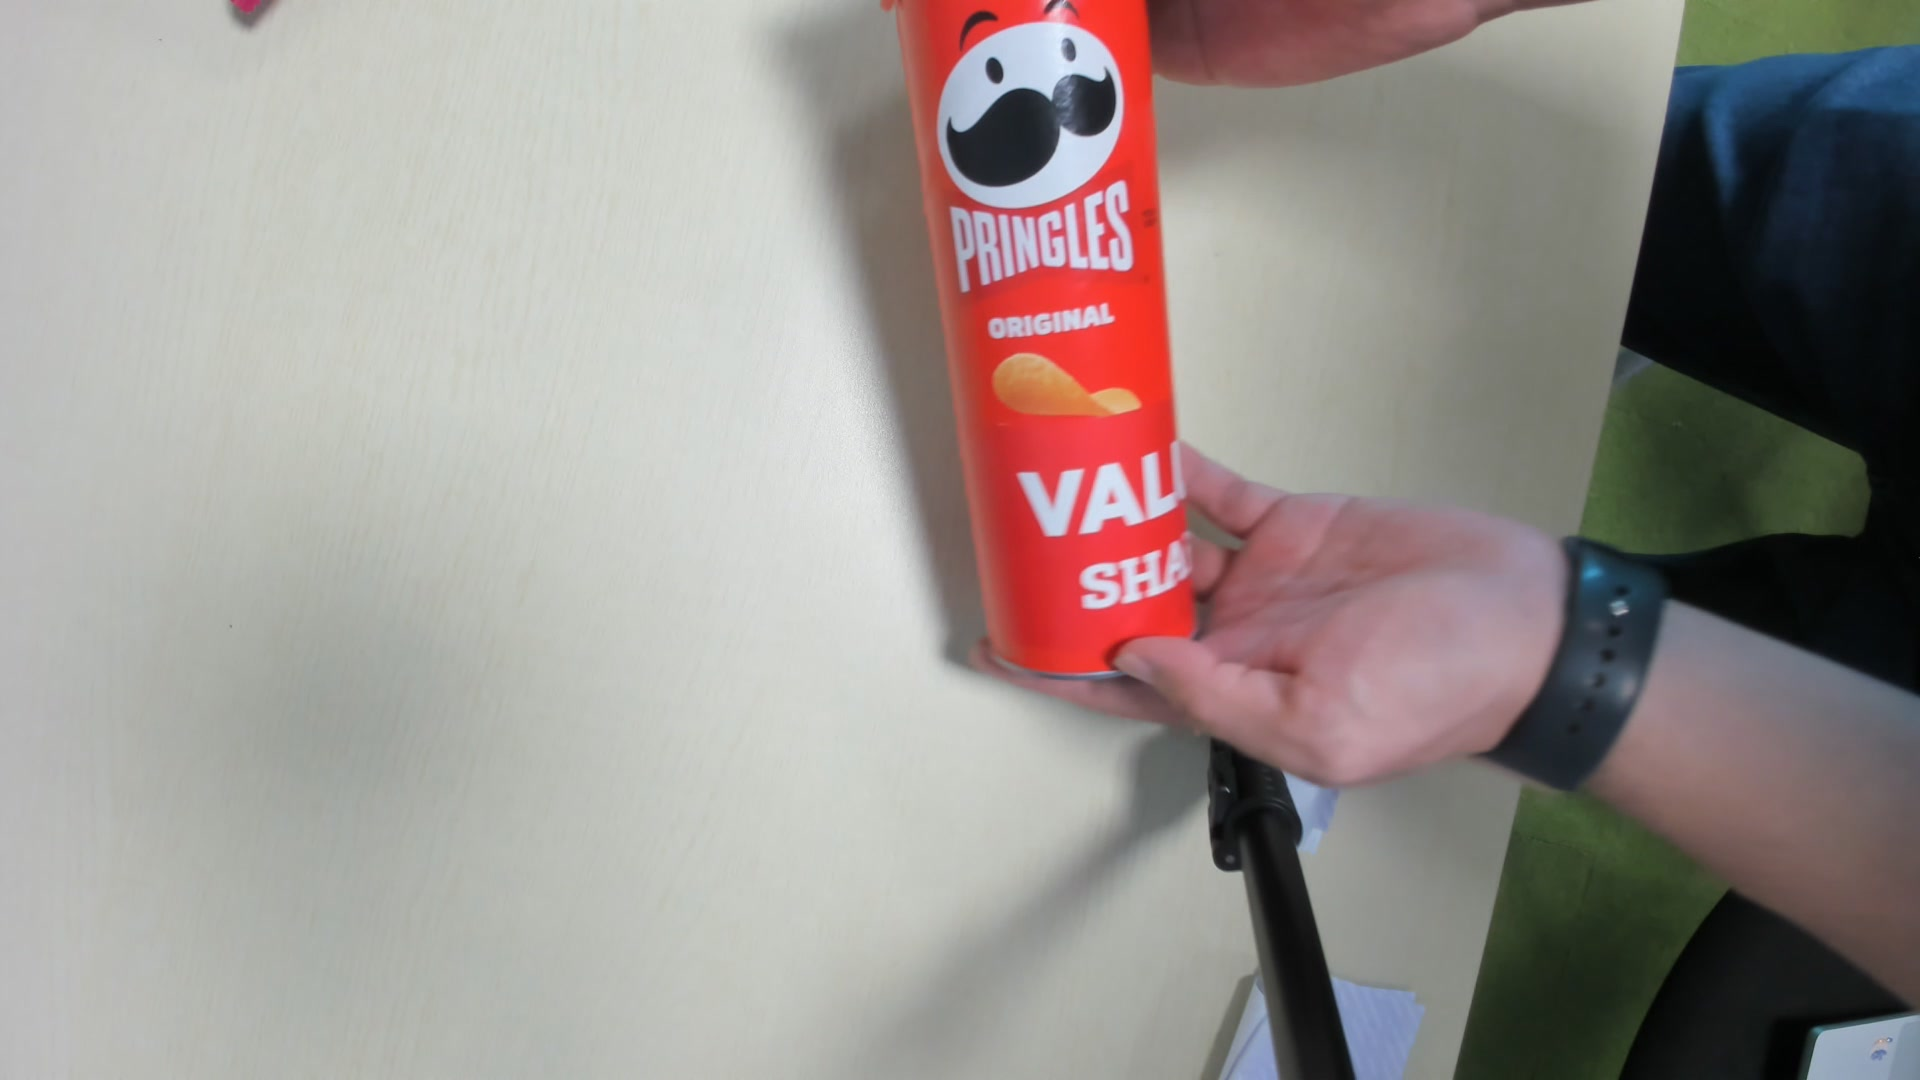PotatoChipsKeropok_100-199g_NonHalal_NonHealthy: (902, 3, 1199, 688)
